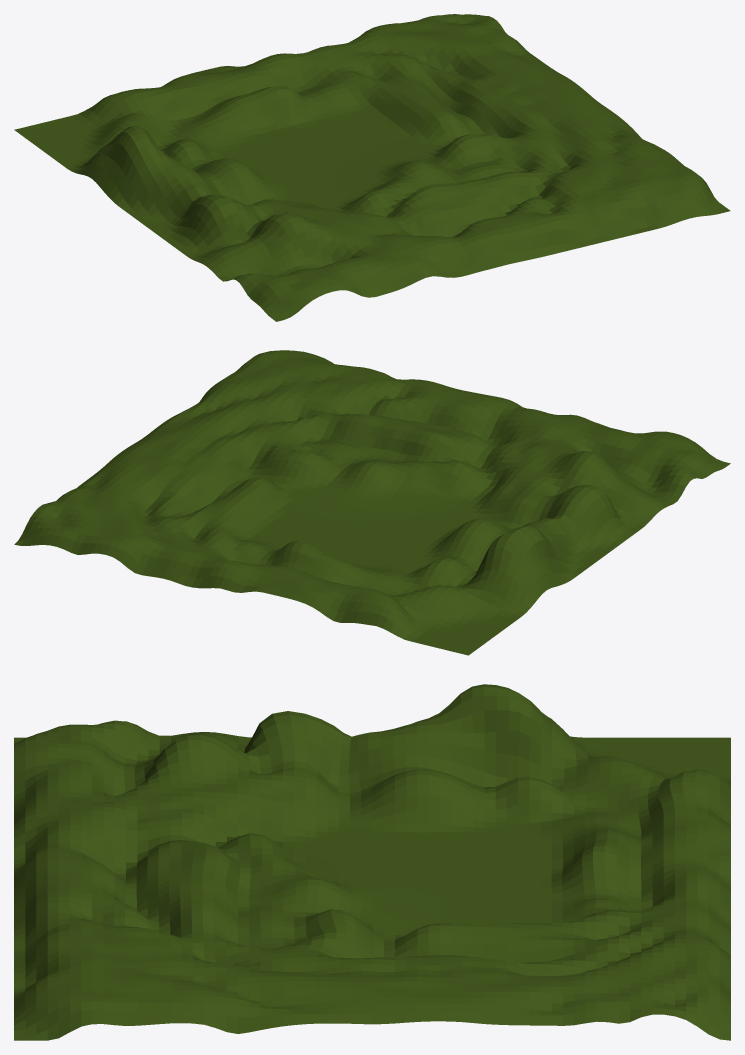
Rendered from plane_hills.obj.
3 views of the same model, one above another, from view 1: azimuth 30°, elevation 25°; view 2: azimuth 150°, elevation 25°; view 3: azimuth 270°, elevation 25° (orthographic). The views are drawn at different scales.
Parts seen in each view (by area): view 1: Plane; view 2: Plane; view 3: Plane.
Boxes of the visible parts, bbox=[...] form: Plane: bbox=[14, 14, 730, 321]; Plane: bbox=[14, 350, 730, 655]; Plane: bbox=[14, 684, 730, 1040].
Bounding box in the file's own units: 40 × 4.56 × 40.
1 material, 1 textured.
